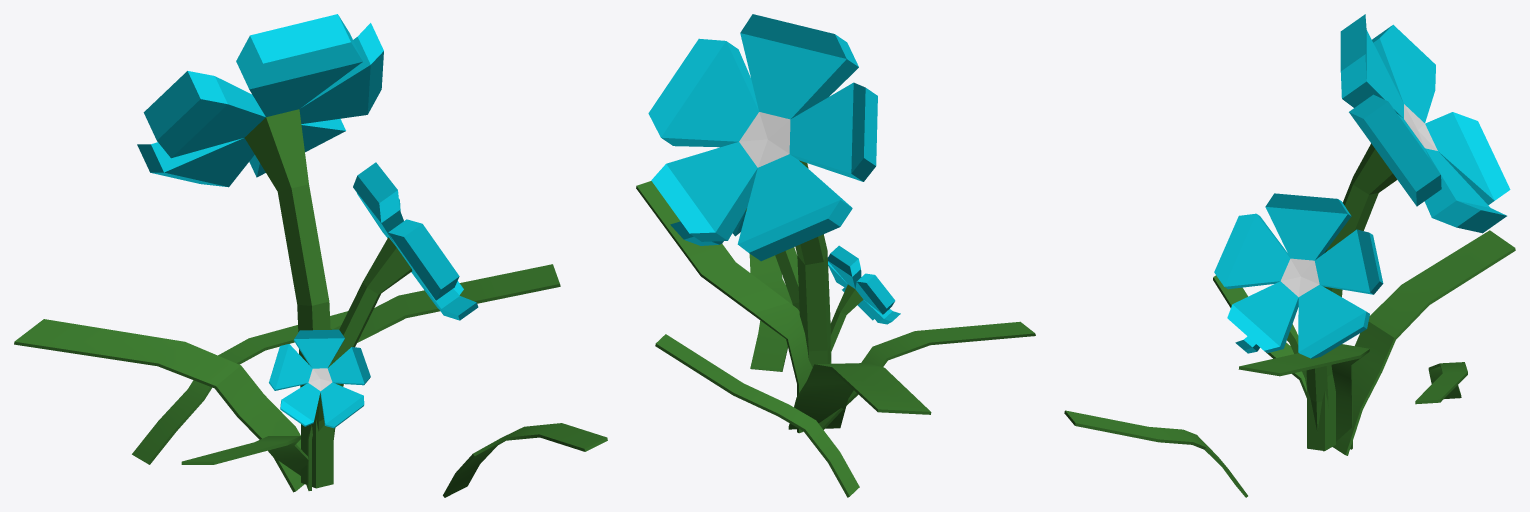
File: Grass5.fbx
3 views of the same model, side by side, from view 1: azimuth 30°, elevation 25°; view 2: azimuth 150°, elevation 25°; view 3: azimuth 270°, elevation 25° (orthographic). The views are drawn at different scales.
Visible parts, largest first — view 1: Cylinder.001, Plane.002, Cylinder.002, Cylinder.003; view 2: Cylinder.001, Plane.002, Cylinder.003, Cylinder.002; view 3: Cylinder.001, Cylinder.002, Plane.002, Cylinder.003.
Part boxes in pixels (x1,y1,x2,y2): Cylinder.001: (137,14,383,488); Plane.002: (14,264,607,497); Cylinder.002: (332,162,478,439); Cylinder.003: (269,329,370,431); Cylinder.001: (648,14,877,367); Plane.002: (636,181,1035,497); Cylinder.003: (828,245,900,354); Cylinder.002: (670,208,799,311); Cylinder.001: (1307,14,1510,450); Cylinder.002: (1214,193,1383,431); Plane.002: (1064,230,1515,497); Cylinder.003: (1235,324,1306,387).
Size of the model in its own units: 86.17 by 85.45 by 84.18.
